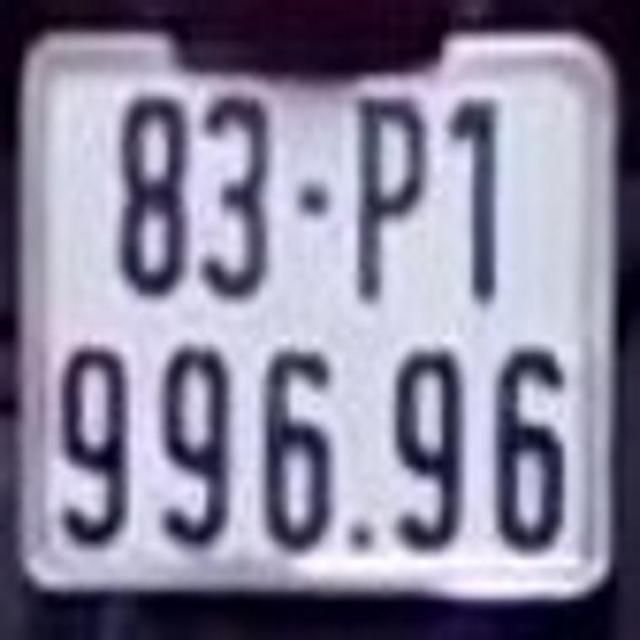1: (442, 87, 522, 307)
3: (197, 73, 278, 298)
6: (493, 314, 574, 552), (255, 322, 339, 548)
8: (110, 85, 192, 292)
9: (381, 331, 474, 536), (152, 324, 236, 548), (52, 332, 138, 548)
P: (341, 80, 430, 303)
